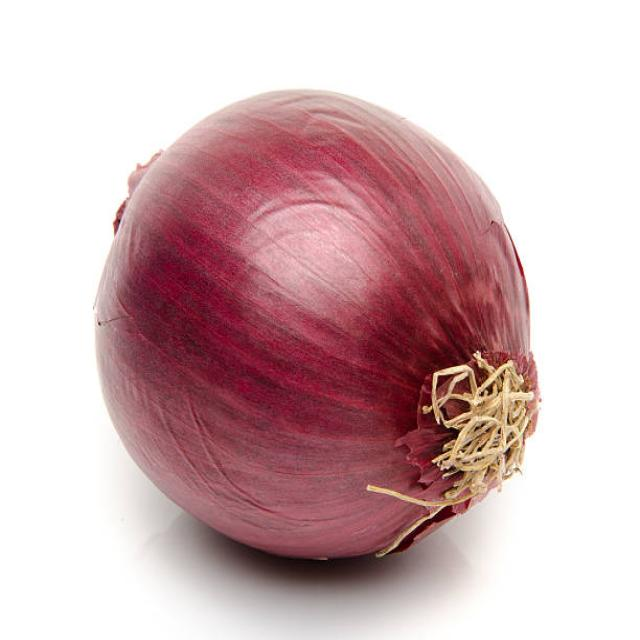onion: (99, 85, 534, 569)
